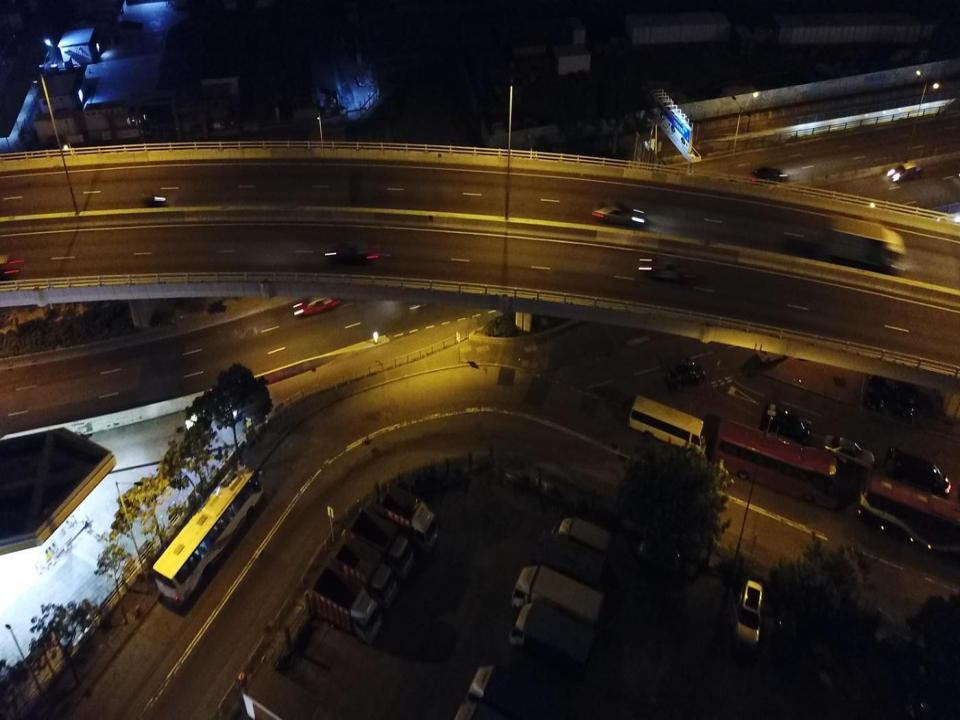bus: (154, 464, 264, 606), (712, 420, 838, 510), (858, 473, 960, 566), (628, 394, 706, 458)
car: (730, 580, 764, 657), (770, 600, 799, 671), (824, 433, 876, 472), (756, 326, 802, 364), (640, 257, 696, 284), (294, 286, 341, 318), (638, 539, 680, 574), (594, 201, 644, 229), (665, 360, 706, 392), (327, 242, 377, 265), (750, 166, 788, 186), (889, 161, 921, 181)
truck: (512, 565, 603, 634), (509, 602, 594, 674), (313, 564, 382, 645), (242, 661, 333, 719), (329, 535, 398, 608), (466, 663, 554, 719), (374, 480, 438, 552), (348, 509, 414, 578), (826, 213, 905, 268), (533, 529, 605, 588), (550, 516, 611, 559)
van: (886, 445, 950, 497), (760, 405, 810, 444), (895, 370, 918, 419), (865, 368, 888, 412)
